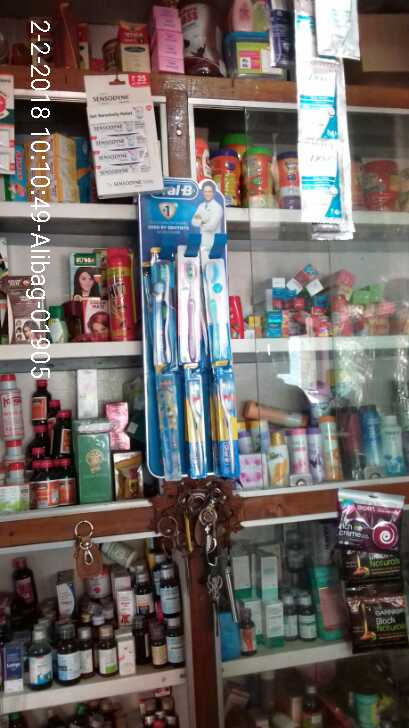oralb: (198, 259, 238, 373), (148, 372, 182, 480), (180, 380, 216, 476), (216, 379, 247, 477), (170, 254, 197, 363), (147, 254, 173, 362)
